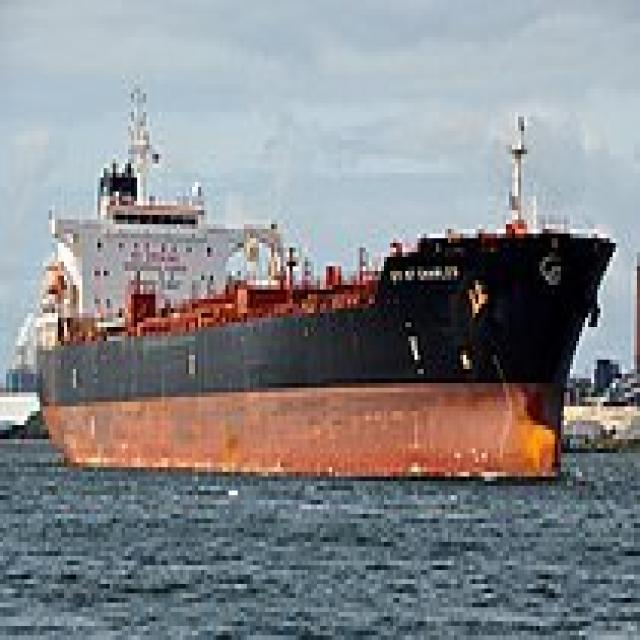Tanker: (24, 70, 616, 477)
